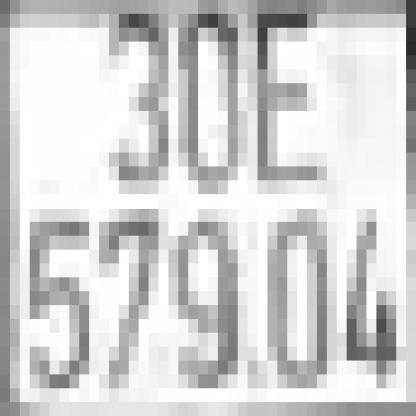0: (257, 208, 327, 374)
3: (109, 14, 168, 180)
4: (337, 208, 386, 374)
5: (30, 208, 89, 374)
7: (99, 208, 159, 374)
9: (168, 208, 228, 374)
E: (248, 14, 317, 180)
